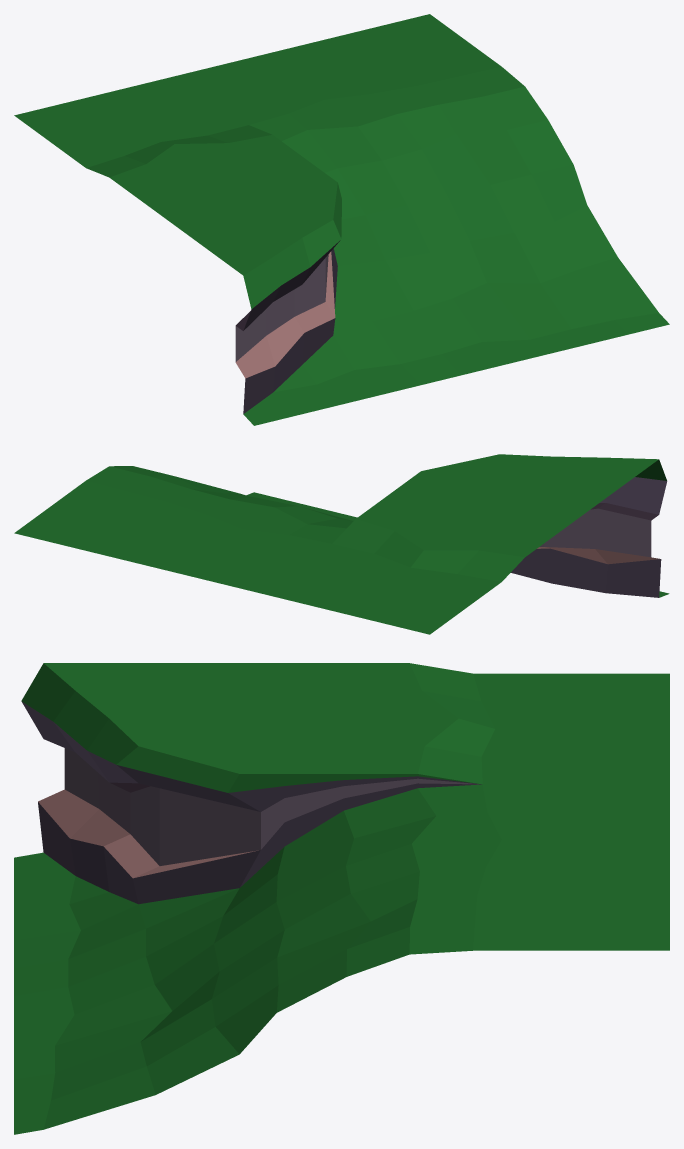
Rendered from Barranco_a_Cesped_SubidaI.fbx.
The picture shows the model from 3 angles, top to bottom: view 1: azimuth 30°, elevation 25°; view 2: azimuth 150°, elevation 25°; view 3: azimuth 270°, elevation 25°; orthographic projection. The views are drawn at different scales.
Visible parts, largest first — view 1: Barranco_a_Cesped_SubidaI; view 2: Barranco_a_Cesped_SubidaI; view 3: Barranco_a_Cesped_SubidaI.
Boxes of the visible parts, left/top/right/bottom form: Barranco_a_Cesped_SubidaI: left=14, top=14, right=669, bottom=425; Barranco_a_Cesped_SubidaI: left=14, top=454, right=669, bottom=634; Barranco_a_Cesped_SubidaI: left=14, top=663, right=669, bottom=1134.
Size of the model in its own units: 2000 by 654 by 2000.
